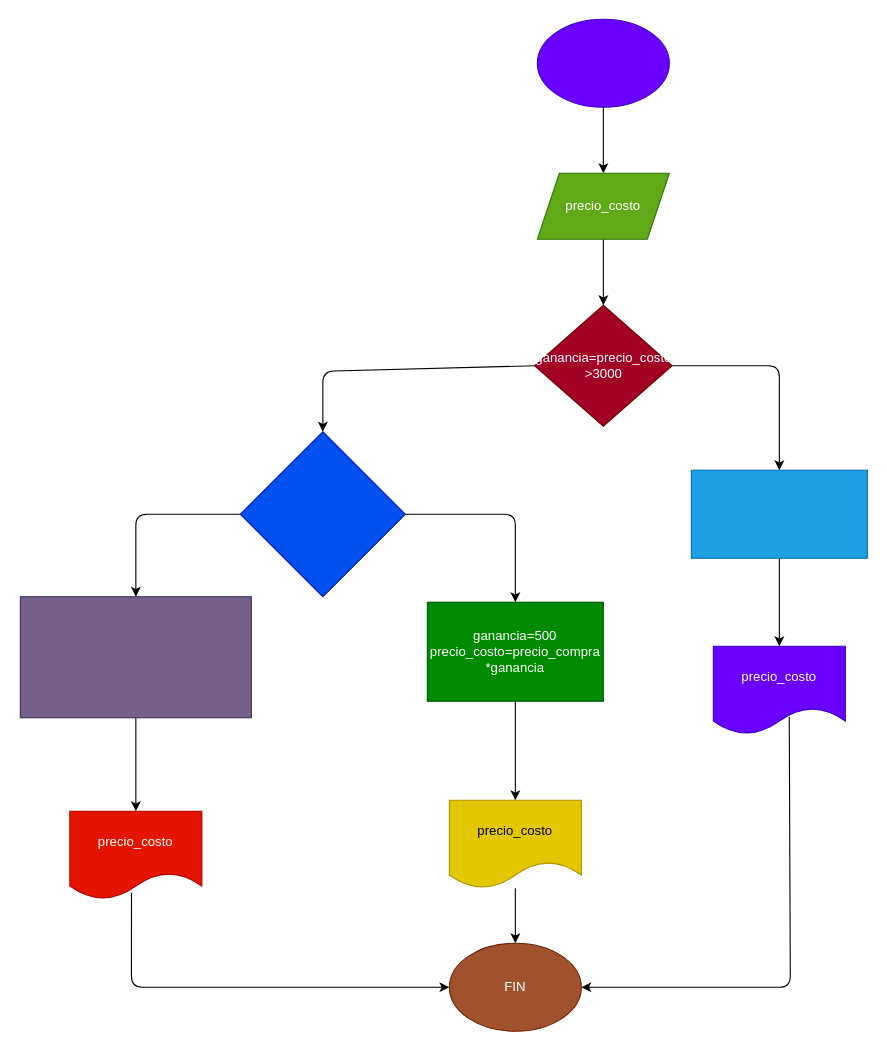
Image size: 887x1051. Some labels were removed from this diagram. The centre of each missing label's shape, as x and y in pixels:
ganancias precio_costo=precio_compra: (778,513)
INICIO: (602,62)
precio_compra>6000, ganancia=(precio_costo* precio_compra=precio_costo+ganancia: (135,657)
precio_costo>=3000 and precio_compra<=6000: (322,514)
